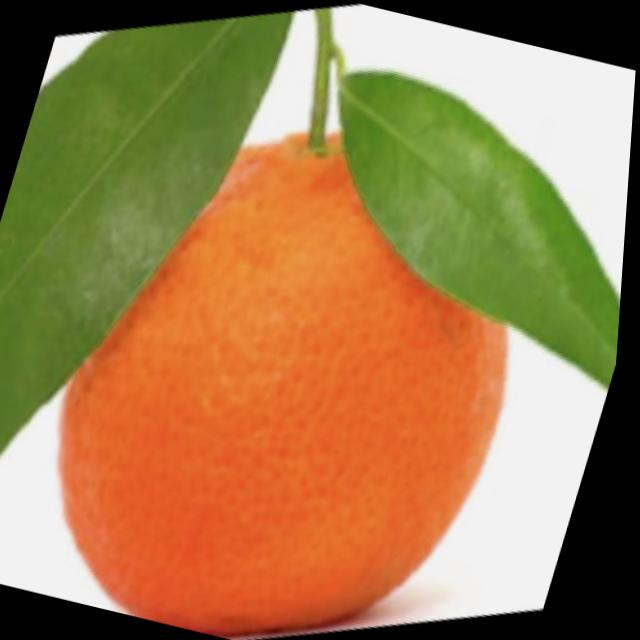Orange: (10, 85, 576, 640)
